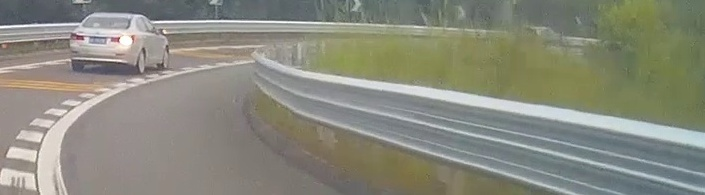L_light: (70, 33, 85, 40)
R_light: (110, 35, 135, 43)
T_light: (105, 17, 113, 19)
day-right: (69, 12, 138, 74)
